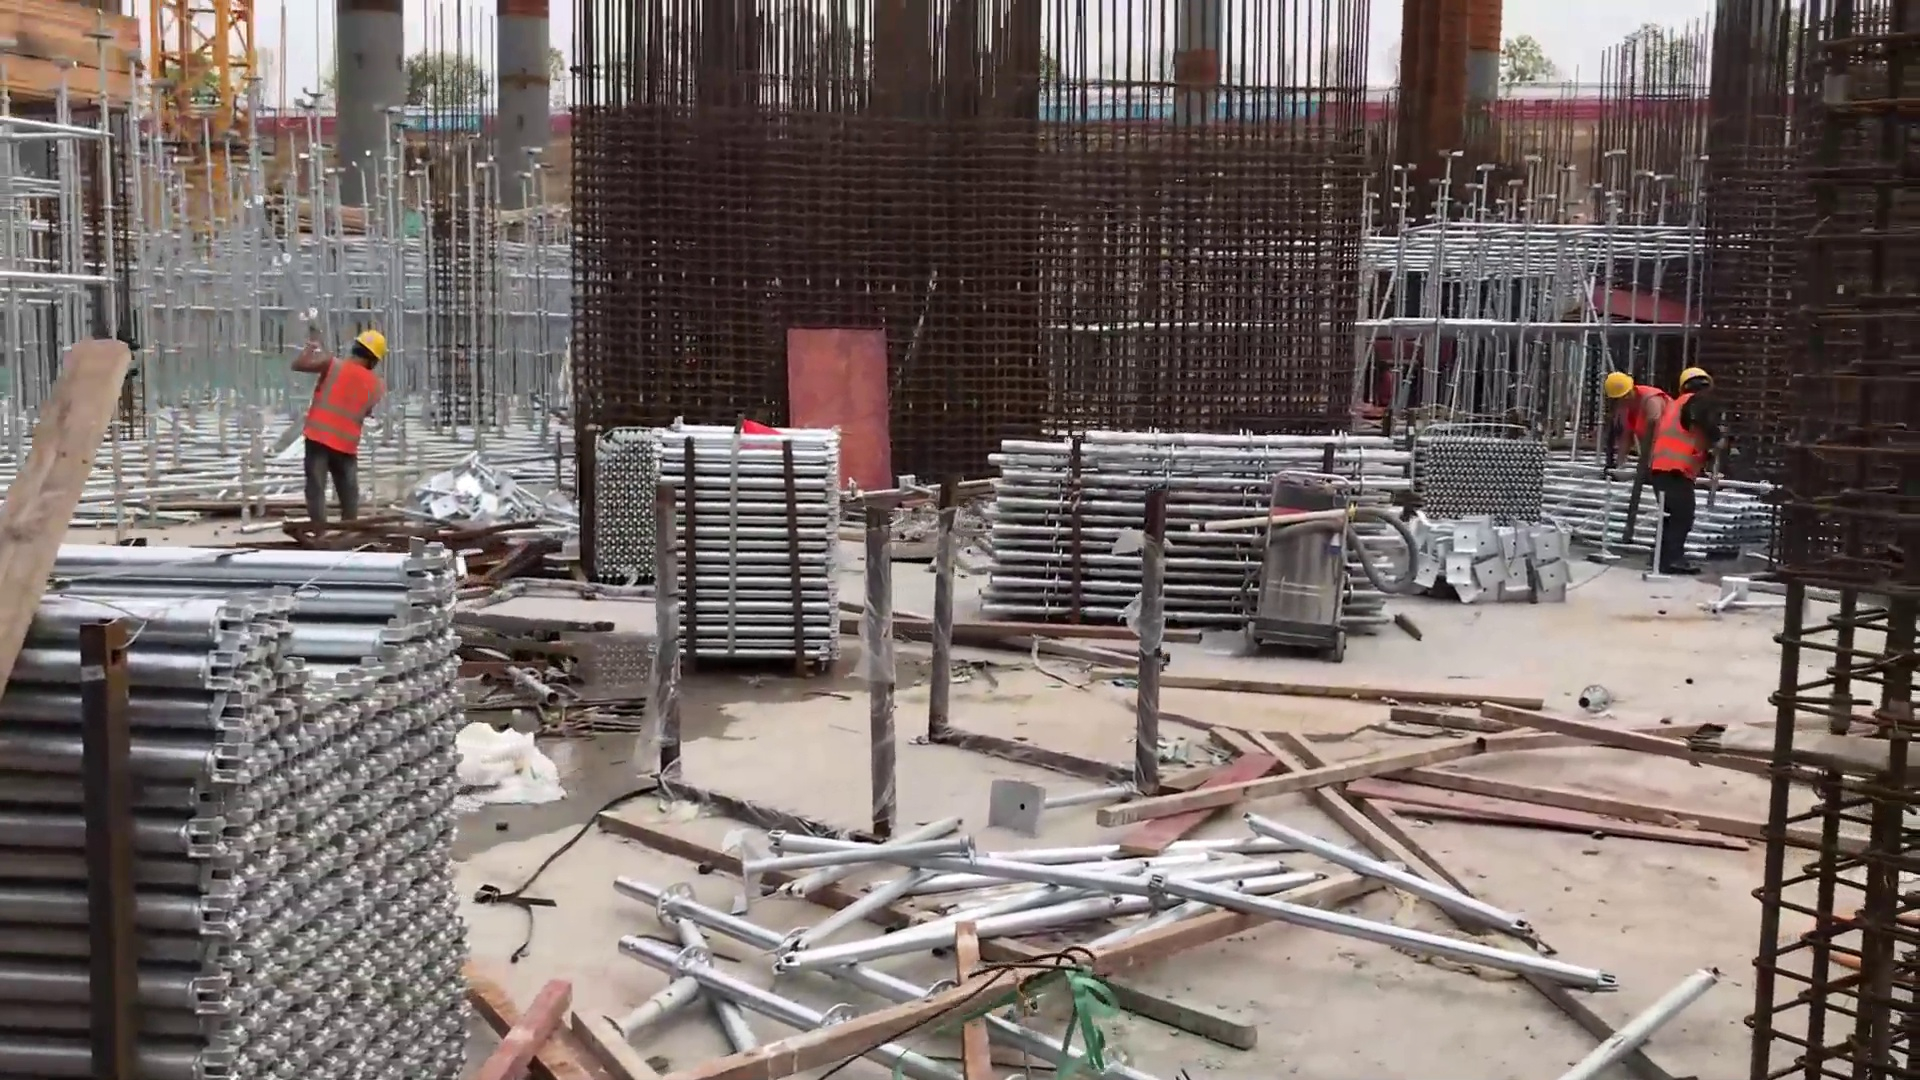board: (774, 320, 902, 496)
helmet: (1602, 363, 1723, 394), (349, 320, 387, 362)
person: (290, 321, 388, 537), (1648, 365, 1730, 579), (1600, 367, 1672, 446)
scaffold: (14, 528, 485, 1080), (974, 417, 1410, 645), (588, 415, 842, 690), (1541, 455, 1774, 567), (1411, 432, 1552, 527)
vest: (307, 363, 382, 463), (1633, 391, 1703, 482)
